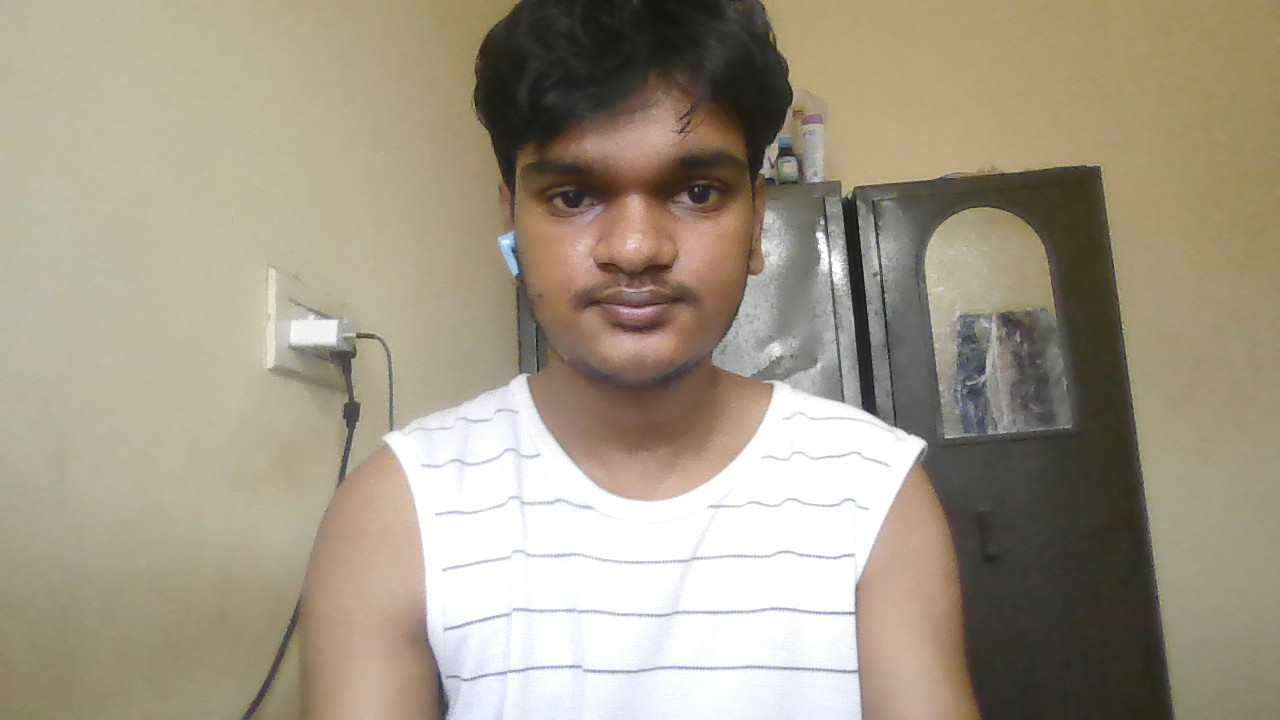earphone: (496, 225, 521, 280)
